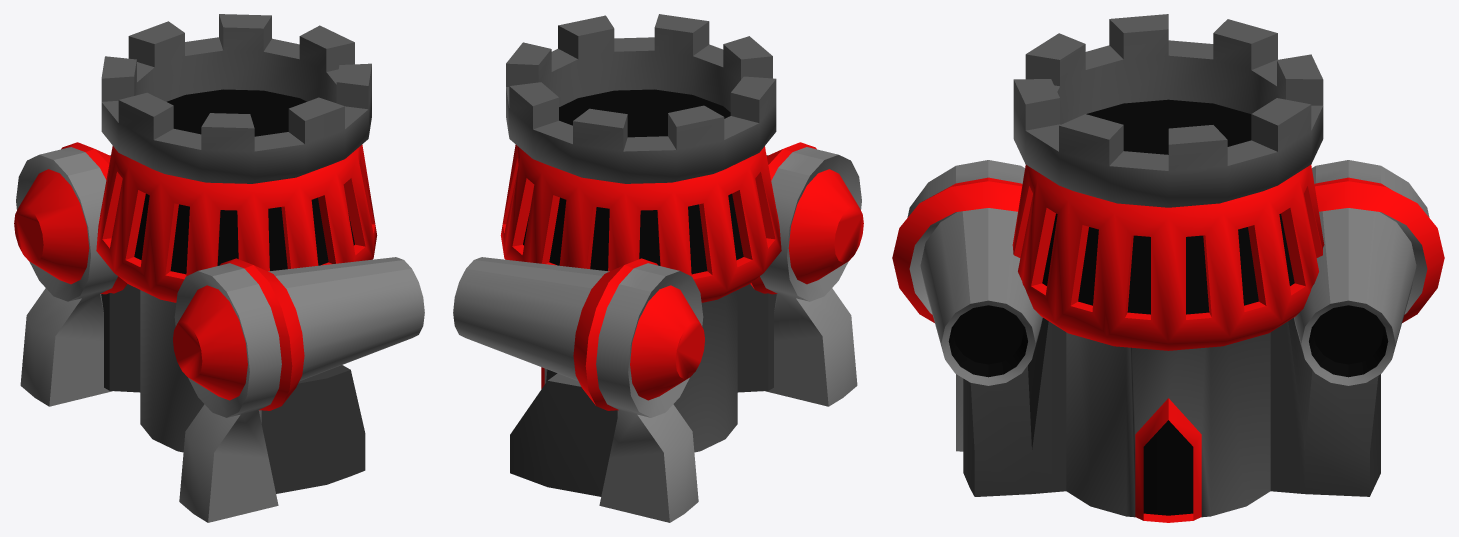
File: Cannon Tower.fbx
3 views of the same model, side by side, from view 1: azimuth 30°, elevation 25°; view 2: azimuth 150°, elevation 25°; view 3: azimuth 270°, elevation 25° (orthographic). The views are drawn at different scales.
Parts seen in each view (by area): view 1: Cylinder.004; view 2: Cylinder.004; view 3: Cylinder.004.
Part boxes in pixels (bbox=[...]): Cylinder.004: bbox=[14, 14, 424, 522]; Cylinder.004: bbox=[453, 14, 863, 522]; Cylinder.004: bbox=[892, 14, 1444, 522].
Size of the model in its own units: 506 by 684 by 850.
